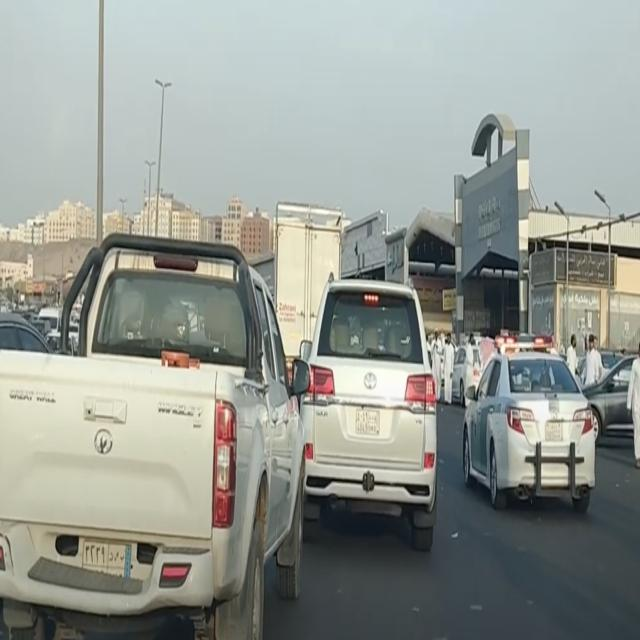license_plate: (80, 536, 133, 596), (355, 406, 381, 443), (544, 422, 564, 442)
